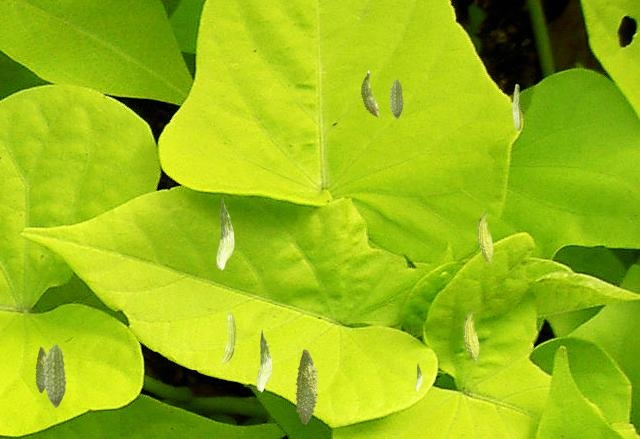ampalaya: (294, 349, 318, 424), (43, 343, 66, 408), (215, 197, 234, 271), (256, 328, 272, 393), (360, 70, 379, 117), (477, 210, 493, 265), (463, 309, 479, 364), (220, 310, 236, 363), (389, 78, 403, 119), (34, 346, 46, 393), (512, 83, 522, 131), (415, 362, 423, 392)
